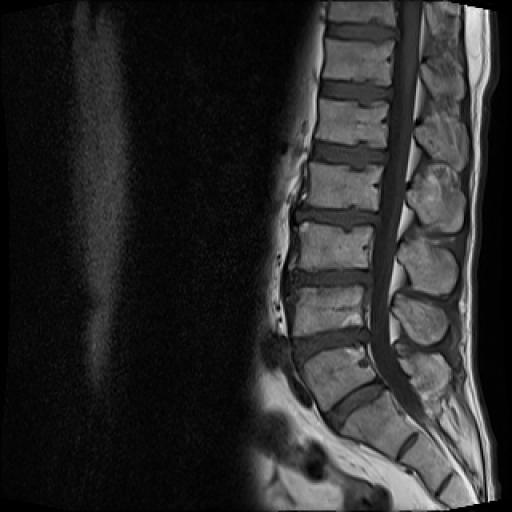L1: (316, 100, 391, 149)
L2: (308, 164, 382, 210)
L3: (298, 224, 373, 270)
L4: (292, 288, 364, 336)
L5: (303, 347, 376, 410)
S1: (340, 391, 417, 458)
